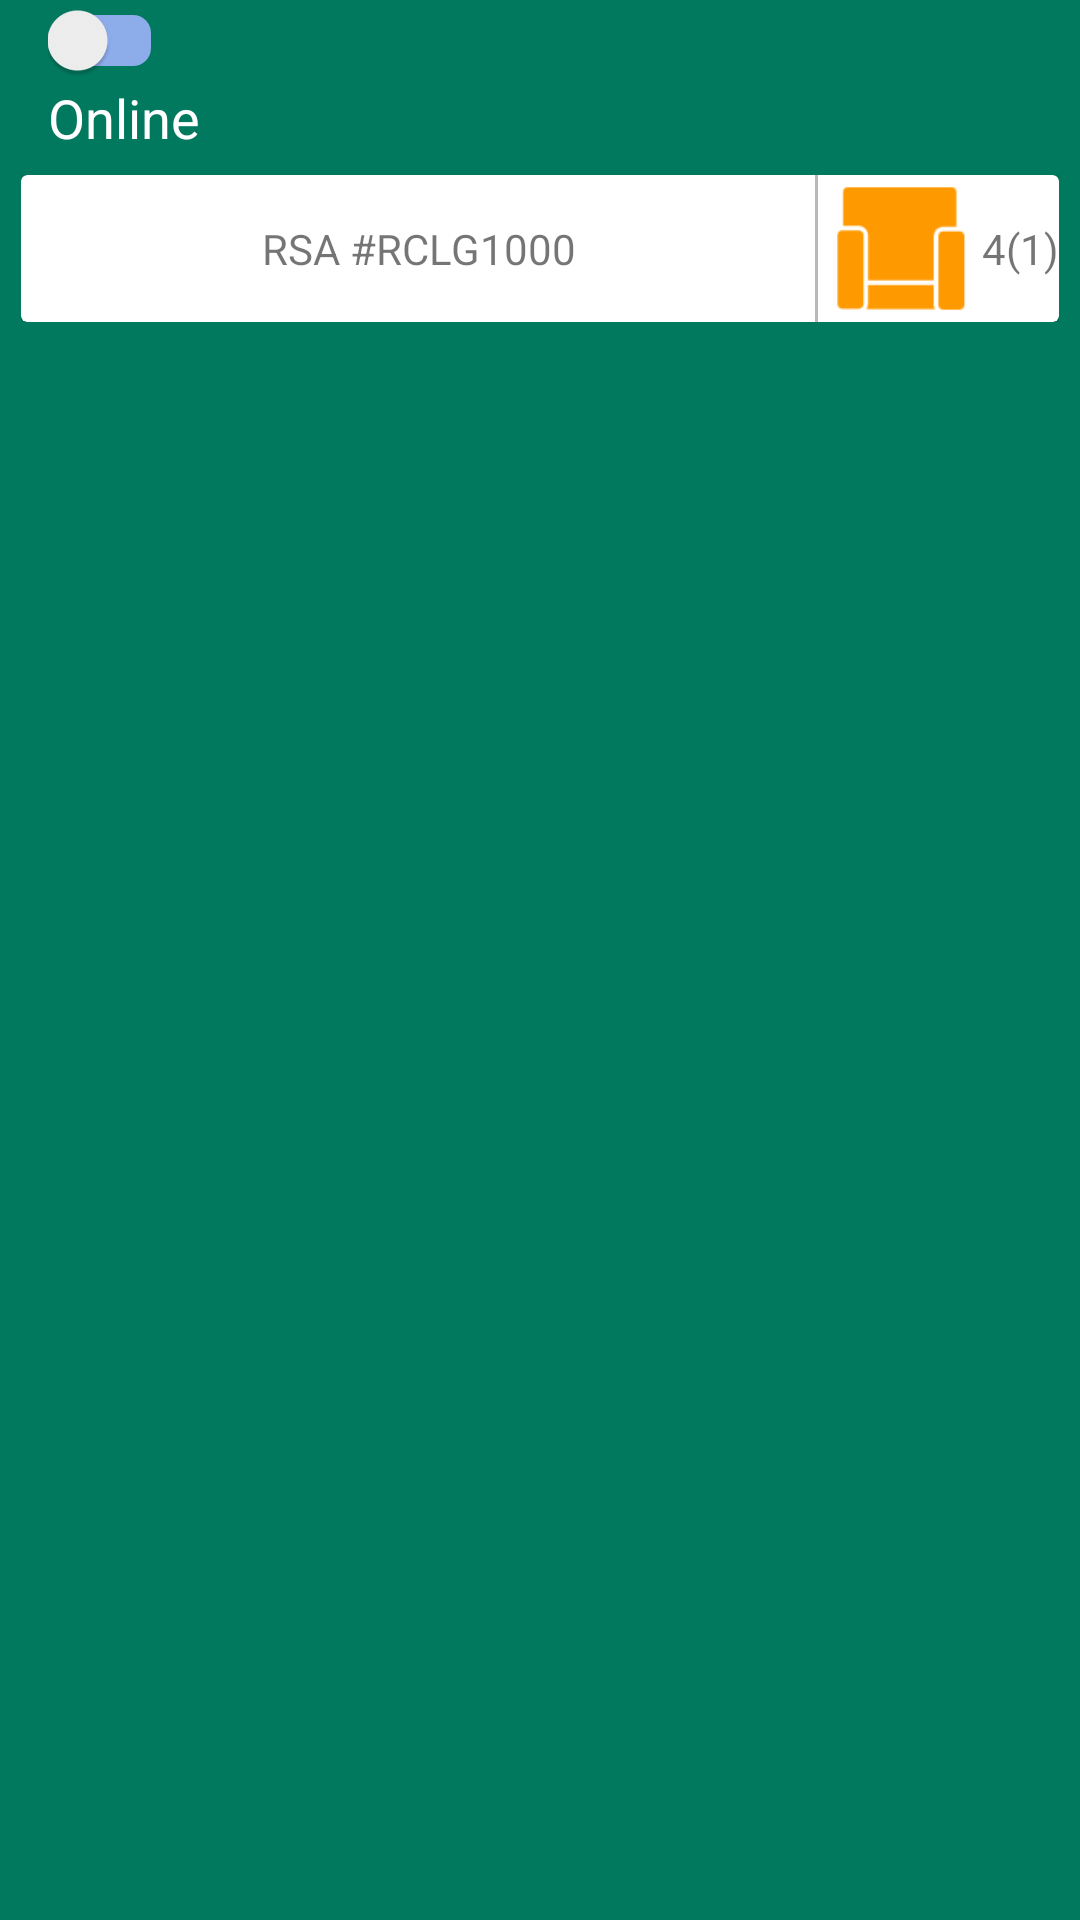

Icons on this 1080 x 1920 Android screen, each with its box as (x1, y1, x2, y2):
seat: (837, 187, 965, 310)
